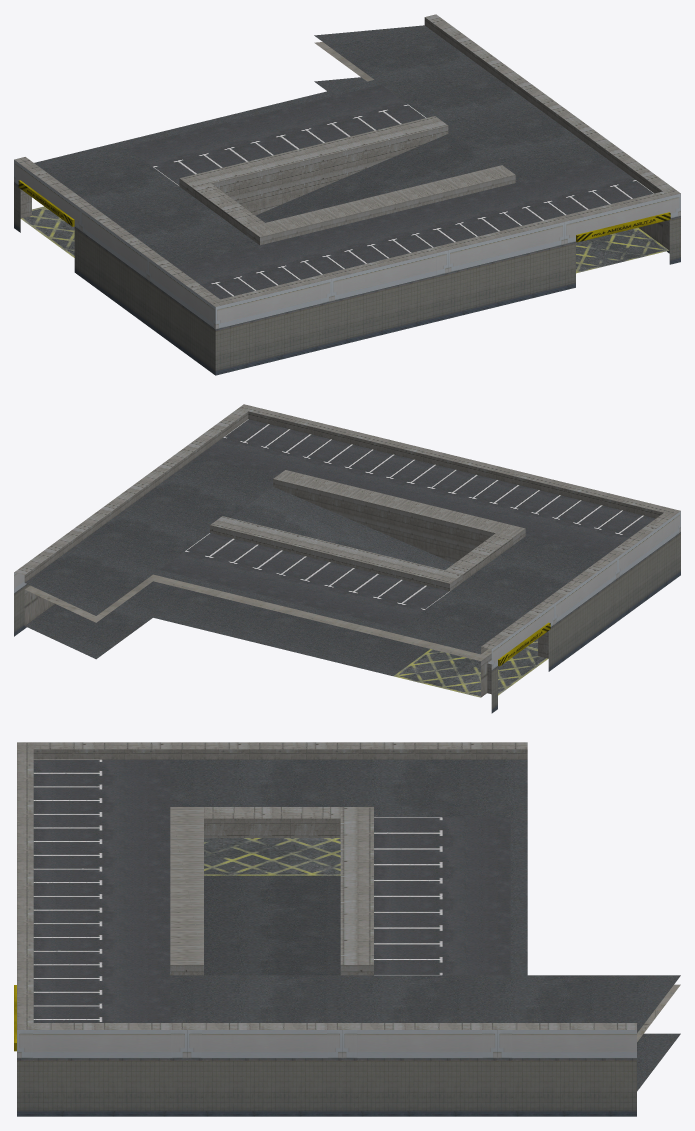
Rendered from venetiancpark04.obj.
3 renders of one model, top to bottom at view 1: azimuth 30°, elevation 25°; view 2: azimuth 150°, elevation 25°; view 3: azimuth 270°, elevation 25°, orthographic. The views are drawn at different scales.
Visible parts, largest first — view 1: venetiancpark04; view 2: venetiancpark04; view 3: venetiancpark04.
Part boxes in pixels (box(x1,y1,x2,y2)): venetiancpark04: box(14, 14, 680, 375); venetiancpark04: box(14, 404, 680, 713); venetiancpark04: box(14, 742, 680, 1116).
Size of the model in its own units: 65.77 by 9.22 by 64.16.
9 materials, 9 textured.
